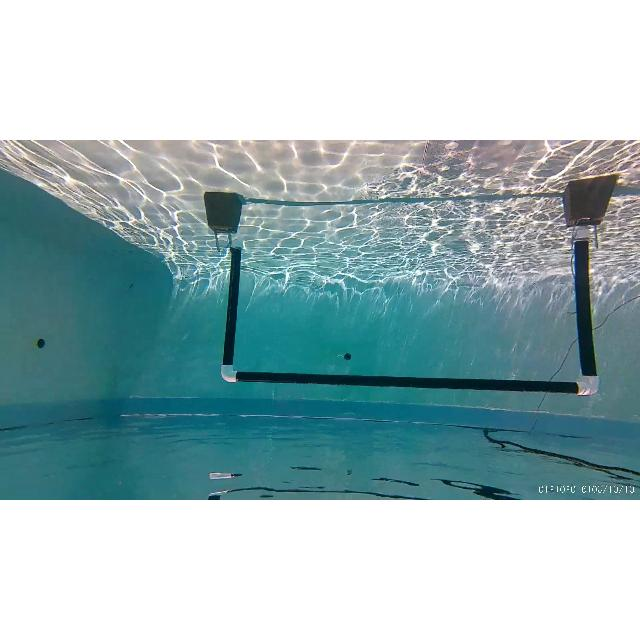prequal gate: (218, 231, 602, 397)
prequal gate leg l: (560, 190, 606, 400)
prequal gate leg r: (203, 197, 244, 377)
